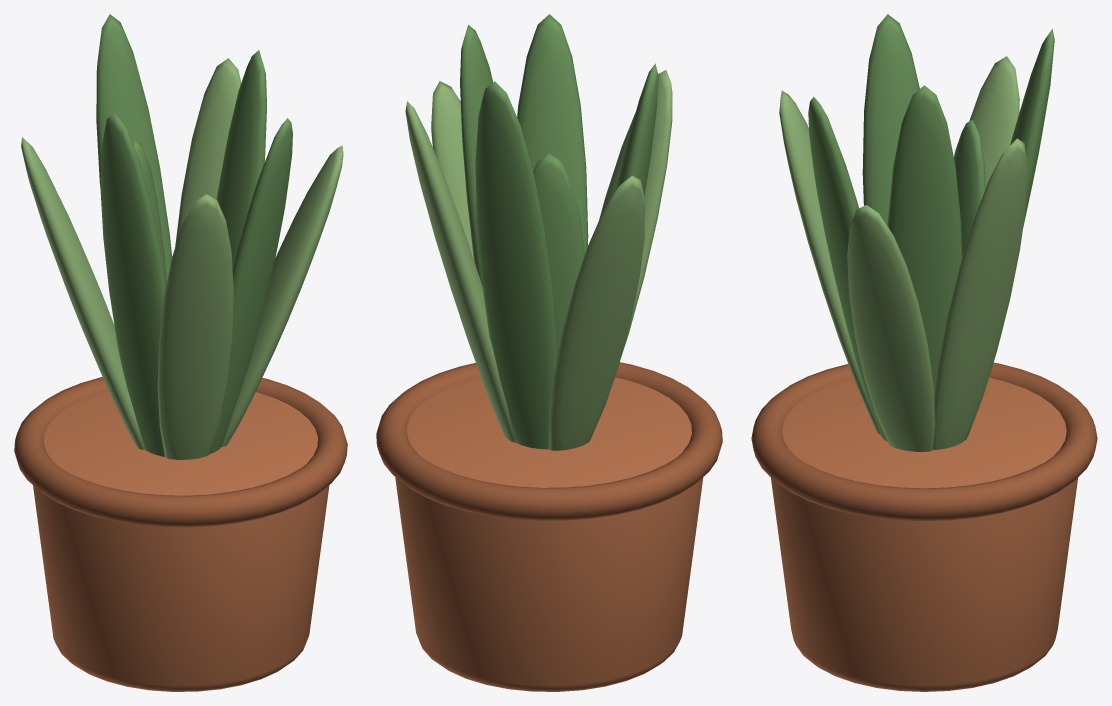
Rendered from plant_tall.glb.
The picture shows the model from 3 angles, left to right: view 1: azimuth 30°, elevation 25°; view 2: azimuth 150°, elevation 25°; view 3: azimuth 270°, elevation 25°; orthographic projection. The views are drawn at different scales.
Visible parts, largest first — view 1: plant_tall_pot, plant_tall_leaf.005, plant_tall_pot_rim, plant_tall_leaf.004, plant_tall_leaf.006, plant_tall_leaf.003, plant_tall_leaf.007, plant_tall_leaf.002, plant_tall_leaf, plant_tall_leaf.001, plant_tall_leaf.008; view 2: plant_tall_pot, plant_tall_leaf.002, plant_tall_pot_rim, plant_tall_leaf.003, plant_tall_leaf.006, plant_tall_leaf.001, plant_tall_leaf.008, plant_tall_leaf, plant_tall_leaf.005, plant_tall_leaf.007, plant_tall_leaf.004; view 3: plant_tall_pot, plant_tall_pot_rim, plant_tall_leaf.001, plant_tall_leaf.007, plant_tall_leaf, plant_tall_leaf.004, plant_tall_leaf.006, plant_tall_leaf.005, plant_tall_leaf.003, plant_tall_leaf.002, plant_tall_leaf.008.
Boxes of the visible parts, x1,y1,x2,y2 form: plant_tall_pot: (33,391,329,691); plant_tall_leaf.005: (157,194,233,459); plant_tall_pot_rim: (14,377,347,527); plant_tall_leaf.004: (100,113,166,456); plant_tall_leaf.006: (209,118,292,453); plant_tall_leaf.003: (21,137,144,449); plant_tall_leaf.007: (221,145,343,446); plant_tall_leaf.002: (96,14,171,281); plant_tall_leaf: (216,50,266,266); plant_tall_leaf.001: (175,58,241,247); plant_tall_leaf.008: (133,140,166,285); plant_tall_pot: (395,377,703,691); plant_tall_leaf.002: (475,81,557,449); plant_tall_pot_rim: (376,362,722,520); plant_tall_leaf.003: (548,175,644,450); plant_tall_leaf.006: (517,14,588,254); plant_tall_leaf.001: (405,101,515,442); plant_tall_leaf.008: (533,153,584,355); plant_tall_leaf: (460,25,493,285); plant_tall_leaf.005: (599,70,672,356); plant_tall_leaf.007: (431,81,474,260); plant_tall_leaf.004: (616,63,658,196); plant_tall_pot: (771,377,1077,691); plant_tall_pot_rim: (751,362,1097,521); plant_tall_leaf.001: (933,138,1027,449); plant_tall_leaf.007: (847,205,935,451); plant_tall_leaf: (887,85,962,390); plant_tall_leaf.004: (862,14,919,225); plant_tall_leaf.006: (808,96,887,441); plant_tall_leaf.005: (779,90,879,434); plant_tall_leaf.003: (969,56,1019,187); plant_tall_leaf.002: (1010,29,1054,226); plant_tall_leaf.008: (954,119,985,257).
Bounding box in the file's own units: 0.336 × 0.65 × 0.336.
